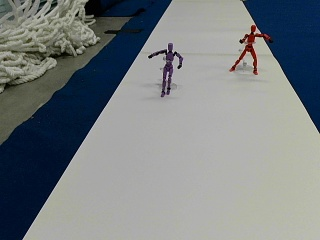pedestrian: (229, 24, 272, 74), (146, 43, 182, 95)
